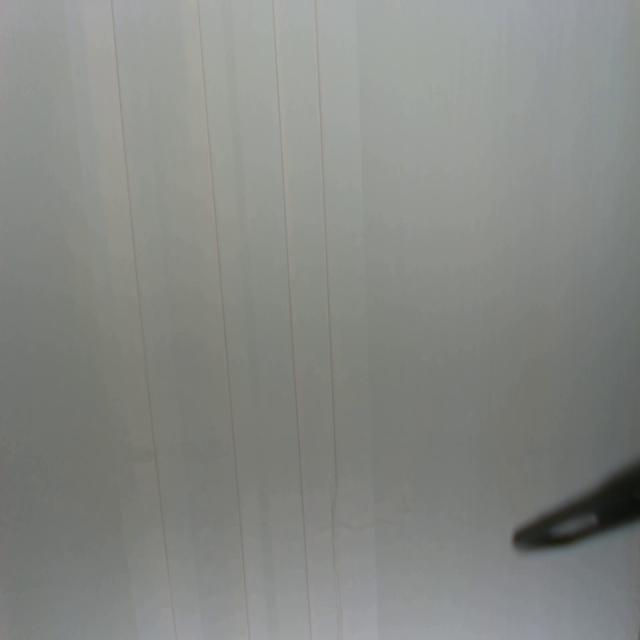crease: (109, 0, 177, 634), (197, 0, 252, 640), (270, 0, 312, 640), (312, 0, 344, 640)
